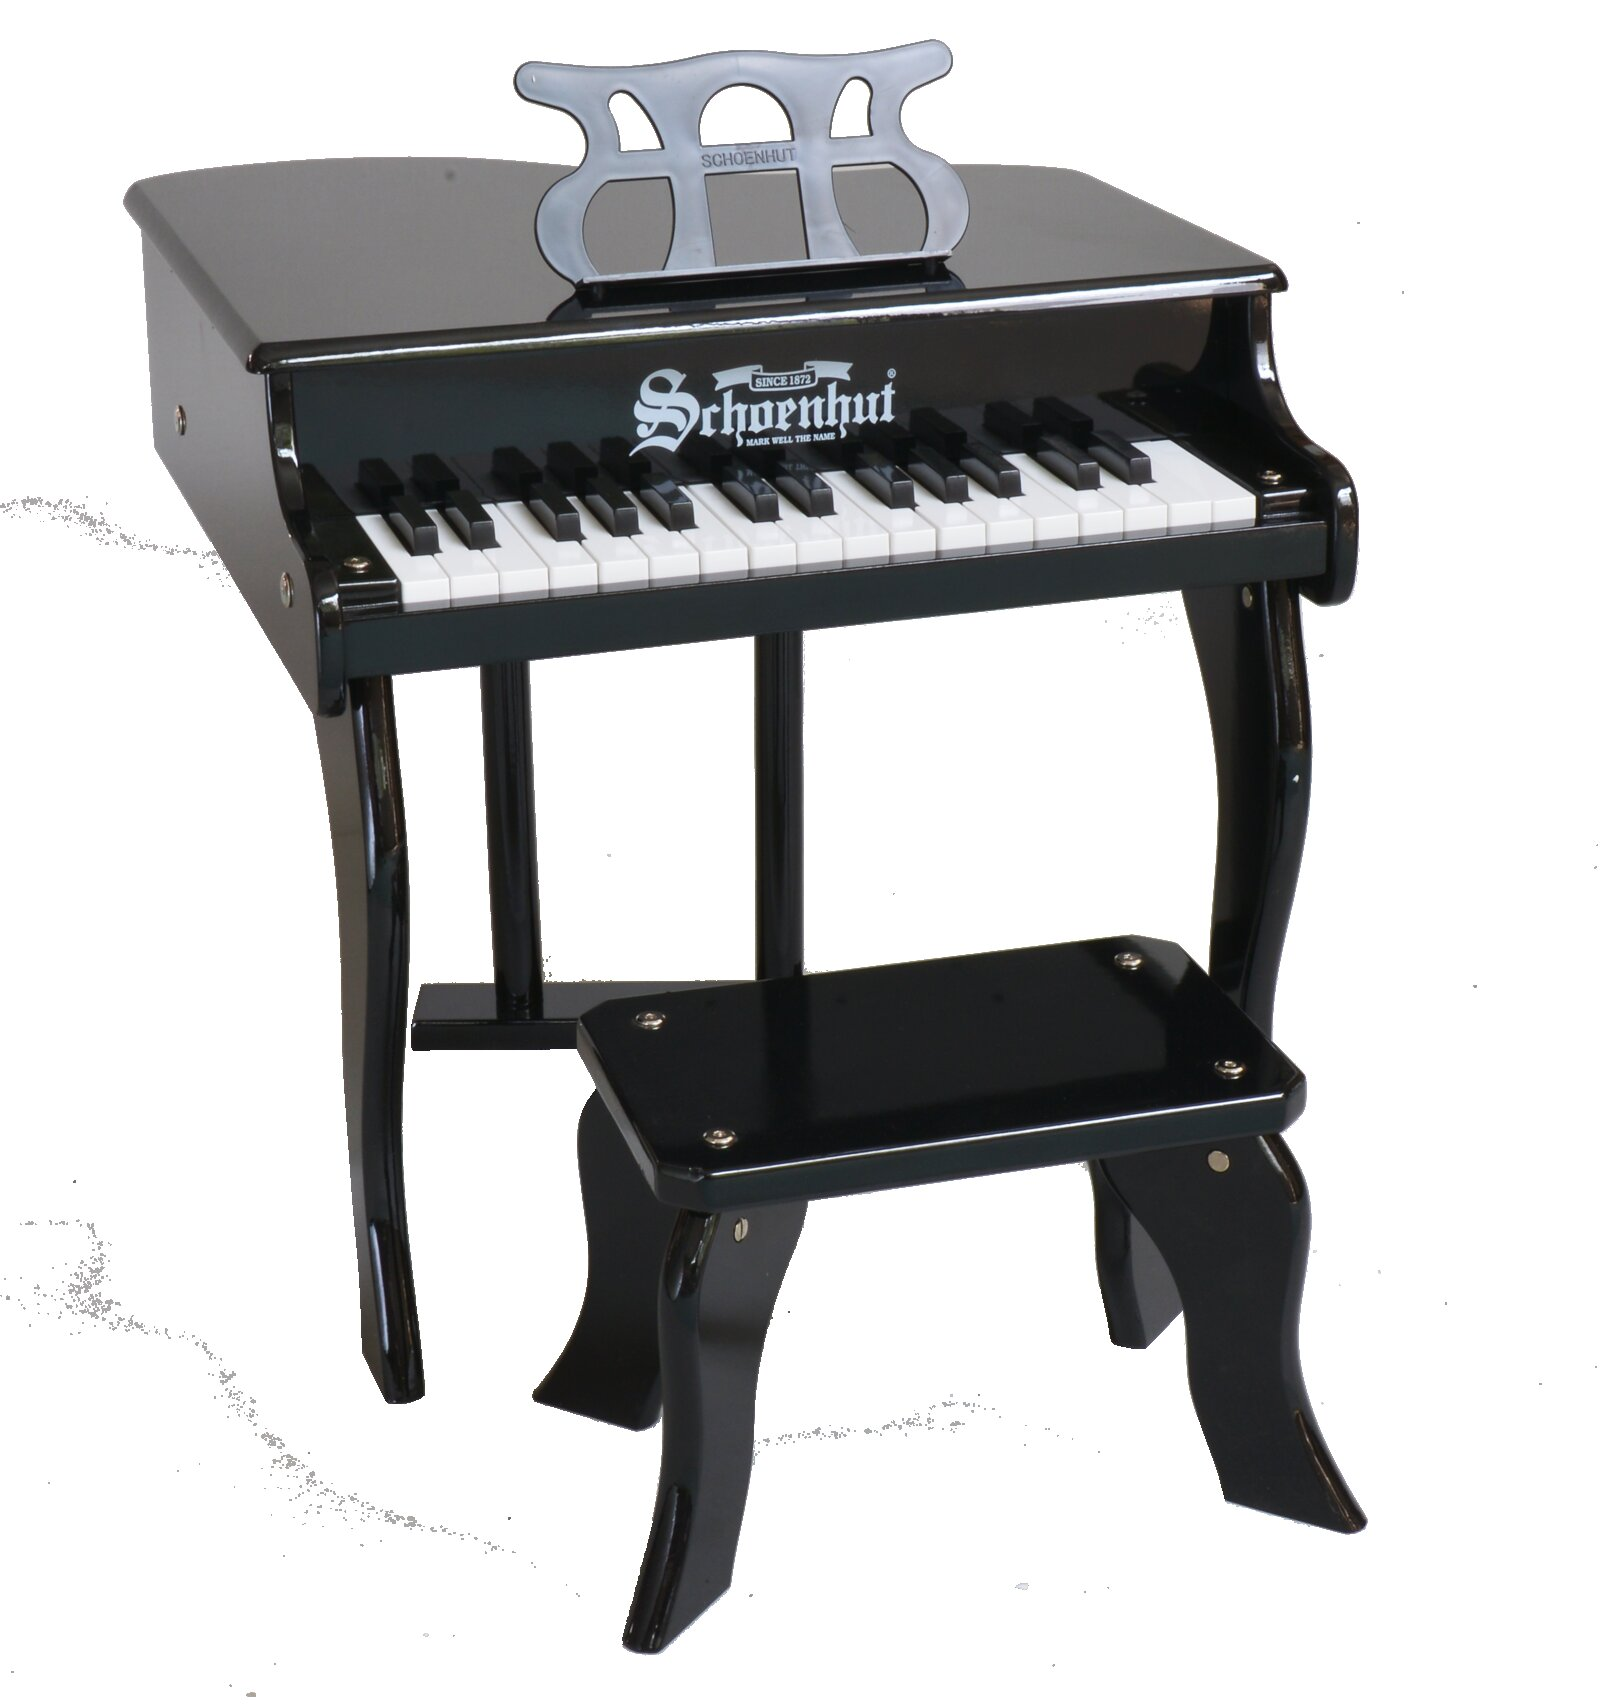GrandPiano: (78, 83, 1447, 707)
